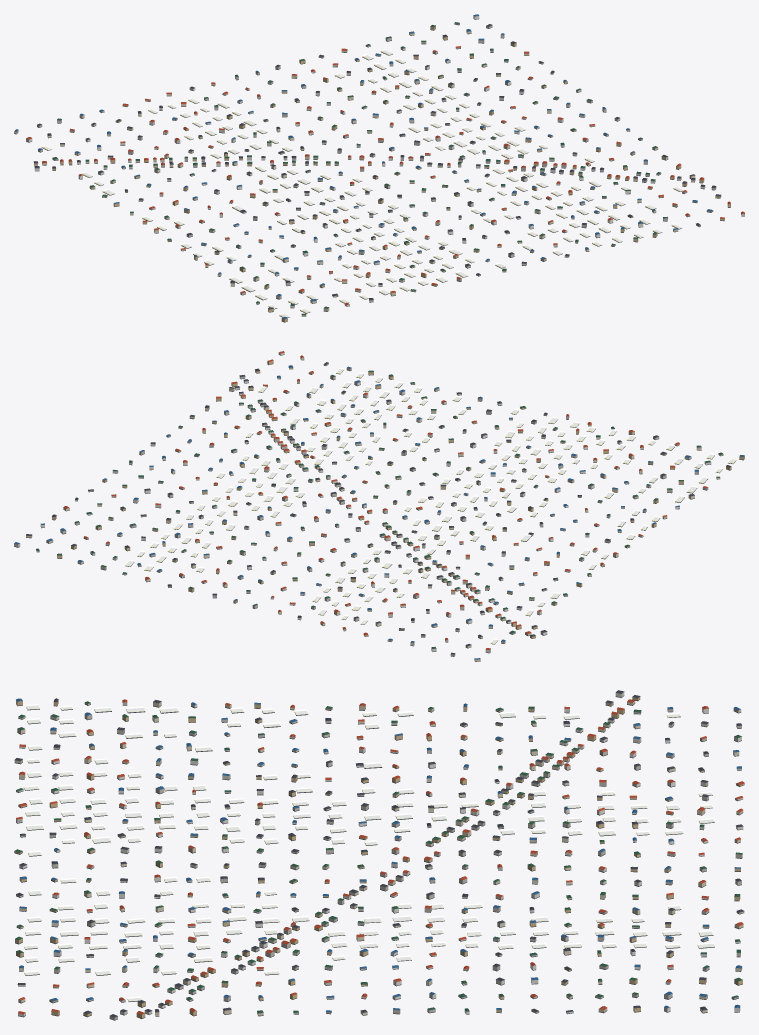
Rendered from buildings_T_E05_N04.glb.
3 renders of one model, top to bottom at view 1: azimuth 30°, elevation 25°; view 2: azimuth 150°, elevation 25°; view 3: azimuth 270°, elevation 25°, orthographic. The views are drawn at different scales.
Parts seen in each view (by area): view 1: T_E05_N04_slope_seating_foundations, T_E05_N04_roofs_agri_greenhouse_arch, T_E05_N04_walls_wall_french_ochre_villa, T_E05_N04_walls_wall_dalat_cream_stucco, T_E05_N04_walls_wall_pastel_sand_gray, T_E05_N04_roofs_roof_slate_French_villa_hip, T_E05_N04_walls_wall_modern_warm_white, T_E05_N04_roofs_roof_terracotta_gable, T_E05_N04_roofs_roof_pine_green_hip, T_E05_N04_roofs_roof_highland_blue_gable; view 2: T_E05_N04_slope_seating_foundations, T_E05_N04_roofs_agri_greenhouse_arch, T_E05_N04_walls_wall_french_ochre_villa, T_E05_N04_walls_wall_pastel_sand_gray, T_E05_N04_walls_wall_dalat_cream_stucco, T_E05_N04_roofs_roof_slate_French_villa_hip, T_E05_N04_walls_wall_modern_warm_white, T_E05_N04_roofs_roof_terracotta_gable, T_E05_N04_roofs_roof_pine_green_hip, T_E05_N04_roofs_roof_highland_blue_gable; view 3: T_E05_N04_slope_seating_foundations, T_E05_N04_roofs_agri_greenhouse_arch, T_E05_N04_walls_wall_french_ochre_villa, T_E05_N04_walls_wall_pastel_sand_gray, T_E05_N04_walls_wall_dalat_cream_stucco, T_E05_N04_walls_wall_modern_warm_white, T_E05_N04_roofs_roof_slate_French_villa_hip, T_E05_N04_roofs_roof_terracotta_gable, T_E05_N04_roofs_roof_pine_green_hip, T_E05_N04_roofs_roof_highland_blue_gable.
Boxes of the visible parts, x1=… form: T_E05_N04_slope_seating_foundations: x1=14, y1=18, x2=744, y2=322; T_E05_N04_roofs_agri_greenhouse_arch: x1=41, y1=49, x2=683, y2=317; T_E05_N04_walls_wall_french_ochre_villa: x1=34, y1=26, x2=730, y2=321; T_E05_N04_walls_wall_dalat_cream_stucco: x1=14, y1=25, x2=724, y2=316; T_E05_N04_walls_wall_pastel_sand_gray: x1=37, y1=23, x2=716, y2=299; T_E05_N04_roofs_roof_slate_French_villa_hip: x1=33, y1=24, x2=720, y2=309; T_E05_N04_walls_wall_modern_warm_white: x1=26, y1=15, x2=744, y2=307; T_E05_N04_roofs_roof_terracotta_gable: x1=26, y1=46, x2=744, y2=305; T_E05_N04_roofs_roof_pine_green_hip: x1=52, y1=22, x2=667, y2=315; T_E05_N04_roofs_roof_highland_blue_gable: x1=14, y1=14, x2=712, y2=319; T_E05_N04_slope_seating_foundations: x1=14, y1=354, x2=744, y2=661; T_E05_N04_roofs_agri_greenhouse_arch: x1=125, y1=367, x2=736, y2=643; T_E05_N04_walls_wall_french_ochre_villa: x1=52, y1=361, x2=744, y2=638; T_E05_N04_walls_wall_pastel_sand_gray: x1=36, y1=376, x2=708, y2=656; T_E05_N04_walls_wall_dalat_cream_stucco: x1=26, y1=357, x2=723, y2=661; T_E05_N04_roofs_roof_slate_French_villa_hip: x1=26, y1=362, x2=731, y2=654; T_E05_N04_walls_wall_modern_warm_white: x1=14, y1=352, x2=711, y2=652; T_E05_N04_roofs_roof_terracotta_gable: x1=63, y1=351, x2=707, y2=649; T_E05_N04_roofs_roof_pine_green_hip: x1=36, y1=370, x2=723, y2=648; T_E05_N04_roofs_roof_highland_blue_gable: x1=14, y1=365, x2=744, y2=659; T_E05_N04_slope_seating_foundations: x1=14, y1=695, x2=744, y2=1020; T_E05_N04_roofs_agri_greenhouse_arch: x1=23, y1=704, x2=714, y2=1001; T_E05_N04_walls_wall_french_ochre_villa: x1=14, y1=697, x2=744, y2=1018; T_E05_N04_walls_wall_pastel_sand_gray: x1=16, y1=702, x2=742, y2=1019; T_E05_N04_walls_wall_dalat_cream_stucco: x1=14, y1=701, x2=744, y2=1015; T_E05_N04_walls_wall_modern_warm_white: x1=16, y1=692, x2=743, y2=1016; T_E05_N04_roofs_roof_slate_French_villa_hip: x1=14, y1=690, x2=744, y2=1017; T_E05_N04_roofs_roof_terracotta_gable: x1=16, y1=699, x2=744, y2=1014; T_E05_N04_roofs_roof_pine_green_hip: x1=14, y1=701, x2=742, y2=1013; T_E05_N04_roofs_roof_highland_blue_gable: x1=16, y1=698, x2=741, y2=1012.
Bounding box in the file's own units: 1873 × 39.27 × 1778.
